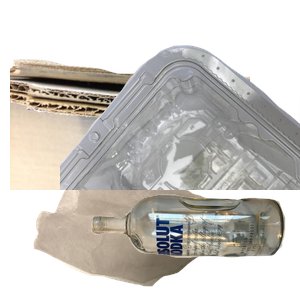cardboard: (10, 57, 250, 237)
glass: (88, 192, 300, 300)
plastic: (60, 43, 300, 223)
trash: (31, 149, 268, 300)
